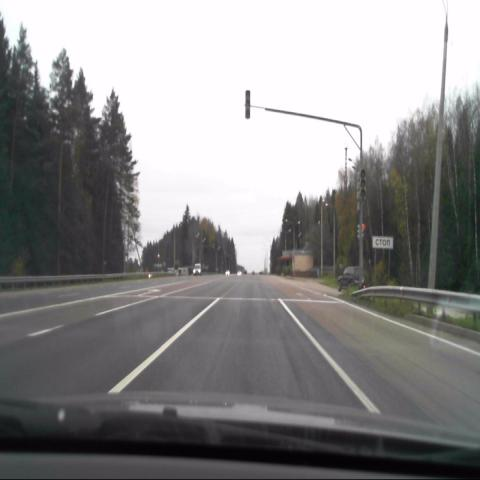6_16: (372, 235, 393, 250)
